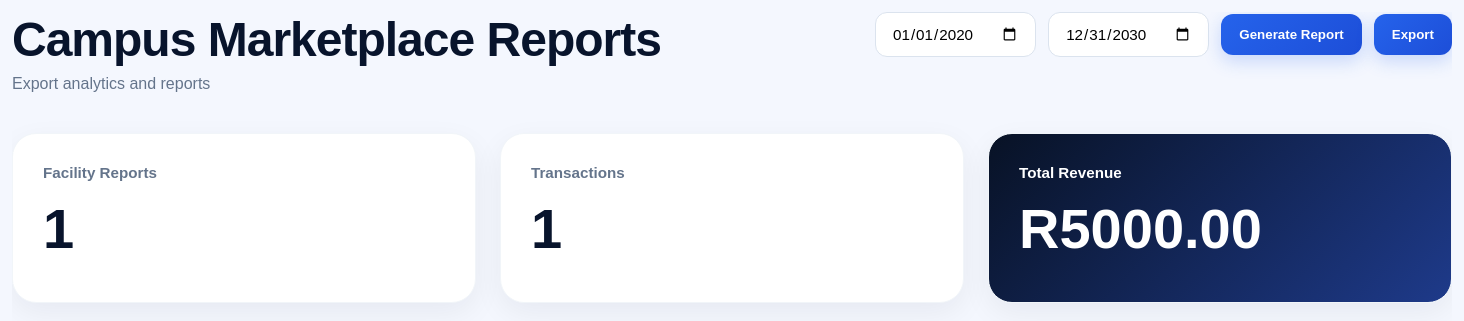
Test case: Reports Component › exports PDF successfully
The width and height of the screenshot is (1464, 321).
Click the button "Export": (1413, 35) [1374,14,1452,55]
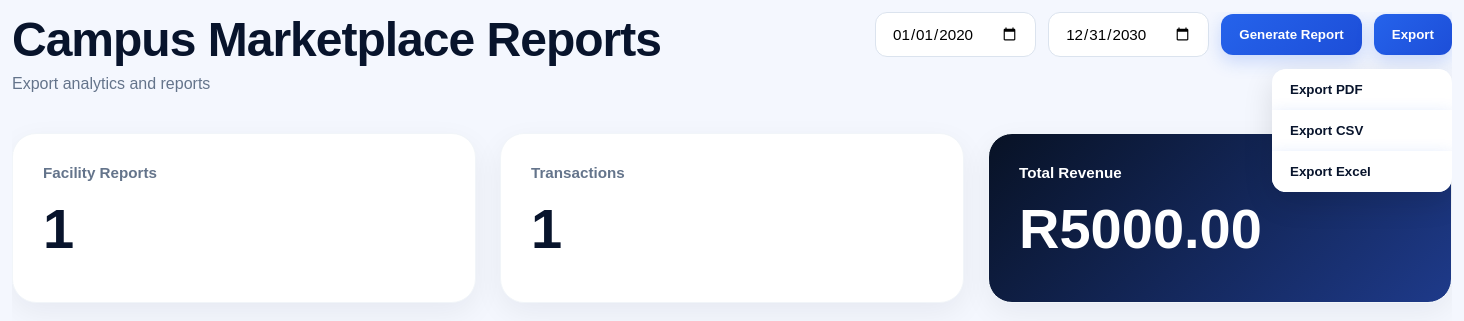
Click the button "Export PDF": (1362, 90) [1272,69,1452,110]
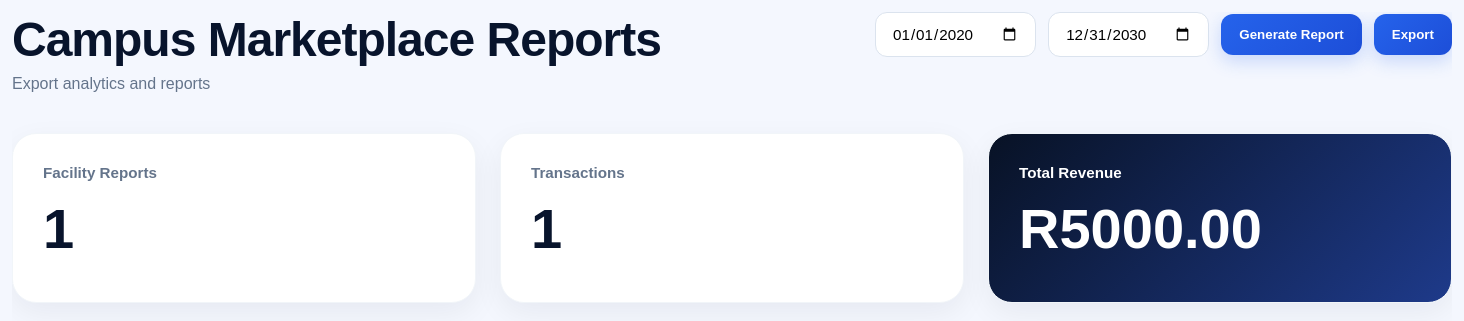
Expected: the button "Export PDF" is gone
